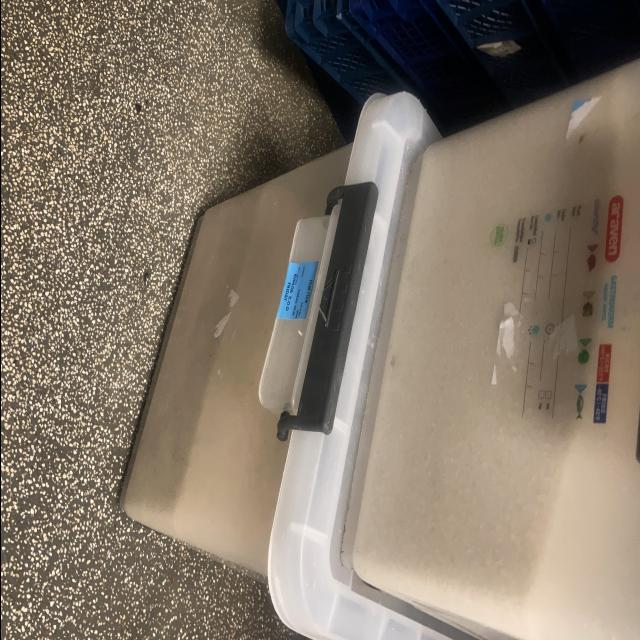product-labels: (276, 256, 318, 324)
